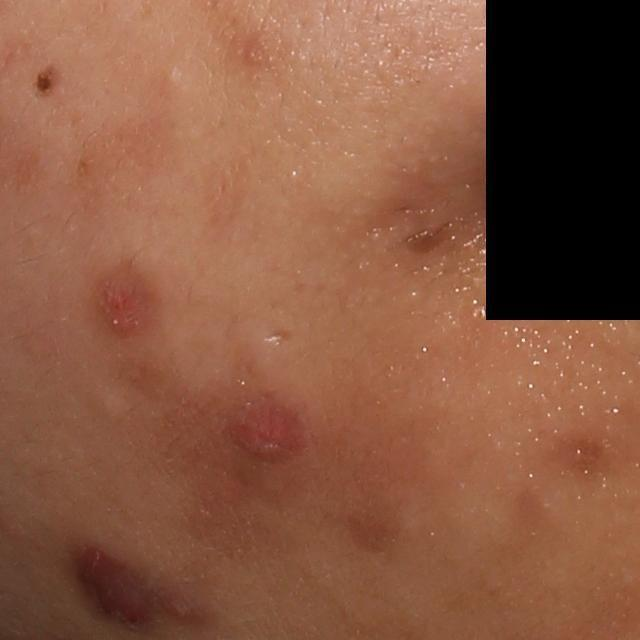atrophic_scar: (264, 326, 292, 351)
comedo: (90, 390, 131, 427), (158, 67, 189, 98)
nevus: (32, 72, 57, 96)
papule: (81, 548, 158, 634), (236, 406, 300, 462), (96, 273, 147, 335)
